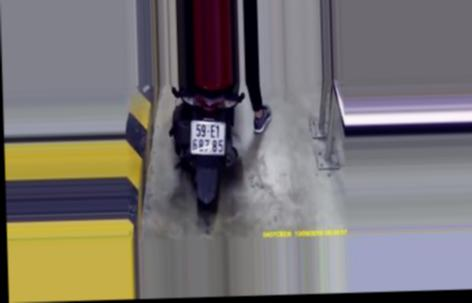License_Plate: (186, 119, 228, 158)
